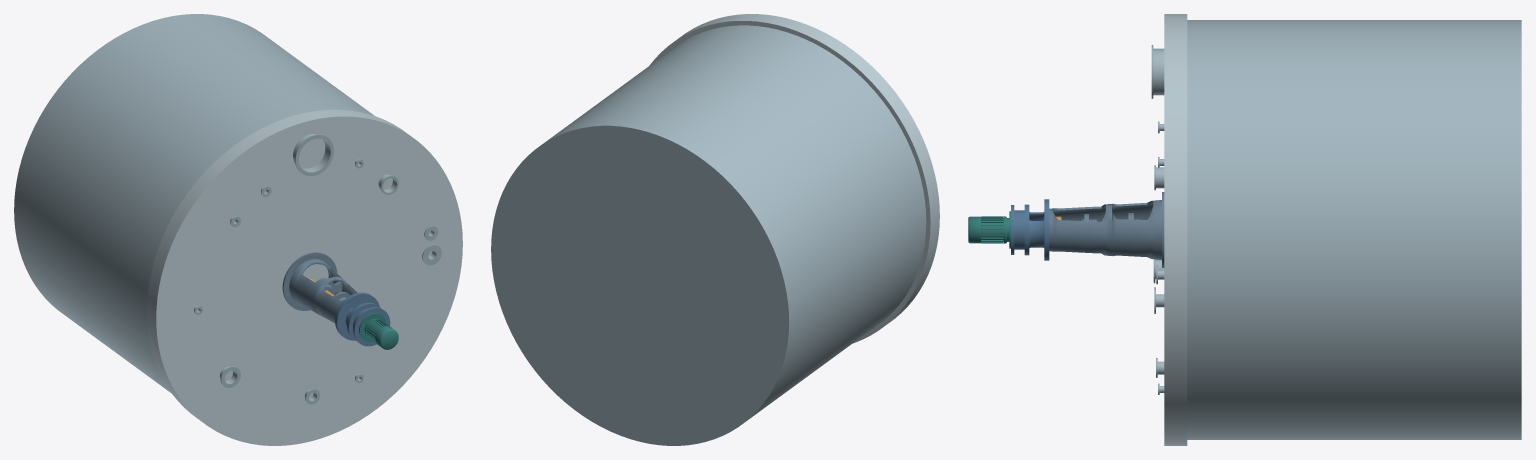
3 views of the same model, side by side, from view 1: azimuth 30°, elevation 25°; view 2: azimuth 150°, elevation 25°; view 3: azimuth 270°, elevation 25° (orthographic). The views are drawn at different scales.
Visible parts, largest first — view 1: Tank_cover_lid, Tank_shell, 06_Tapered_window_frame_with_bored_seats, 01_Motor, 06_Frame_foot, 02_Base_flange_top, 接口_顶盖法兰07, 02_Upper_mount_flange; view 2: Tank_flat_bottom, Tank_shell, Tank_cover_lid; view 3: Tank_shell, Tank_cover_lid, 06_Tapered_window_frame_with_bored_seats, 01_Motor, 接口_顶盖接管07.
Boxes of the visible parts, bbox=[...] form: Tank_cover_lid: bbox=[147, 109, 462, 445]; Tank_shell: bbox=[14, 14, 374, 393]; 06_Tapered_window_frame_with_bored_seats: bbox=[289, 259, 357, 323]; 01_Motor: bbox=[359, 313, 398, 349]; 06_Frame_foot: bbox=[282, 252, 337, 310]; 02_Base_flange_top: bbox=[336, 293, 379, 340]; 接口_顶盖法兰07: bbox=[295, 134, 333, 176]; 02_Upper_mount_flange: bbox=[353, 307, 390, 346]; Tank_flat_bottom: bbox=[492, 126, 788, 444]; Tank_shell: bbox=[491, 25, 926, 445]; Tank_cover_lid: bbox=[649, 14, 939, 343]; Tank_shell: bbox=[1187, 20, 1521, 439]; Tank_cover_lid: bbox=[1164, 14, 1187, 445]; 06_Tapered_window_frame_with_bored_seats: bbox=[1049, 200, 1161, 259]; 01_Motor: bbox=[968, 211, 1010, 248]; 接口_顶盖接管07: bbox=[1153, 48, 1164, 95].
Size of the model in its own units: 6.07 by 6.07 by 7.78.
